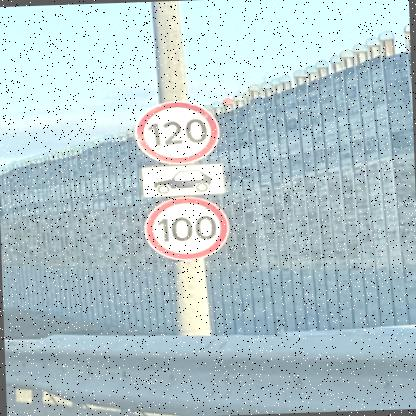speedlimit: (142, 195, 229, 261), (132, 100, 218, 164)
